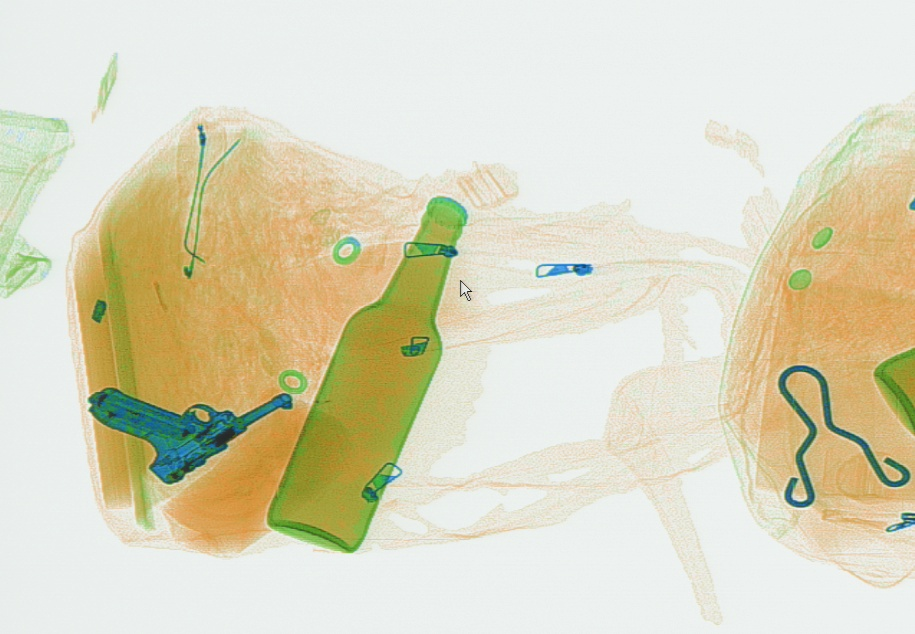slingshot: (777, 364, 911, 506)
